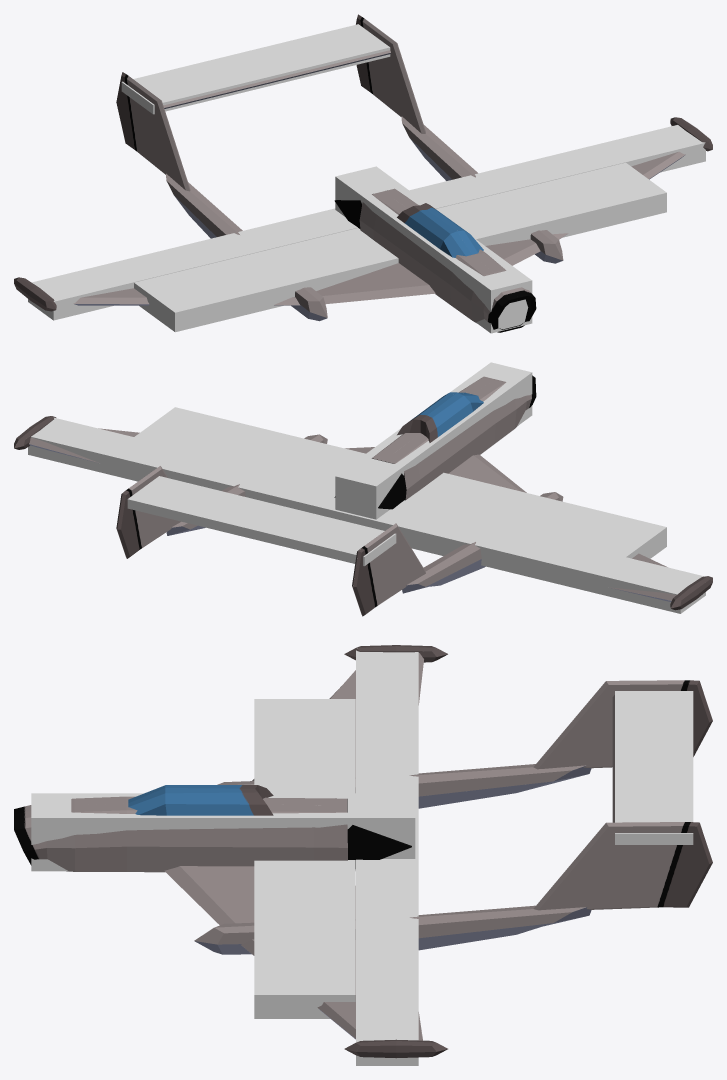
The model's file is Bloodletter_AIRFRAME.fbx.
3 views of the same model, one above another, from view 1: azimuth 30°, elevation 25°; view 2: azimuth 150°, elevation 25°; view 3: azimuth 270°, elevation 25° (orthographic). The views are drawn at different scales.
Parts seen in each view (by area): view 1: Airframe, BB_WING2, BB_WING1, BB_ELEVATOR, BB_BODY; view 2: BB_WING1, Airframe, BB_WING2, BB_ELEVATOR, BB_BODY; view 3: Airframe, BB_WING2, BB_WING1, BB_ELEVATOR, BB_BODY.
Part boxes in pixels (bbox=[...]): Airframe: bbox=[14, 14, 712, 332]; BB_WING2: bbox=[134, 162, 666, 332]; BB_WING1: bbox=[28, 125, 705, 320]; BB_ELEVATOR: bbox=[121, 24, 390, 114]; BB_BODY: bbox=[335, 166, 532, 333]; BB_WING1: bbox=[28, 417, 705, 613]; Airframe: bbox=[14, 375, 712, 616]; BB_WING2: bbox=[134, 407, 666, 558]; BB_ELEVATOR: bbox=[127, 476, 396, 566]; BB_BODY: bbox=[335, 362, 532, 519]; Airframe: bbox=[14, 645, 712, 1058]; BB_WING2: bbox=[254, 699, 355, 1018]; BB_WING1: bbox=[356, 650, 418, 1065]; BB_ELEVATOR: bbox=[615, 691, 693, 844]; BB_BODY: bbox=[31, 793, 415, 871].
Size of the model in its own units: 990 by 149 by 727.
1 material, 1 textured.
